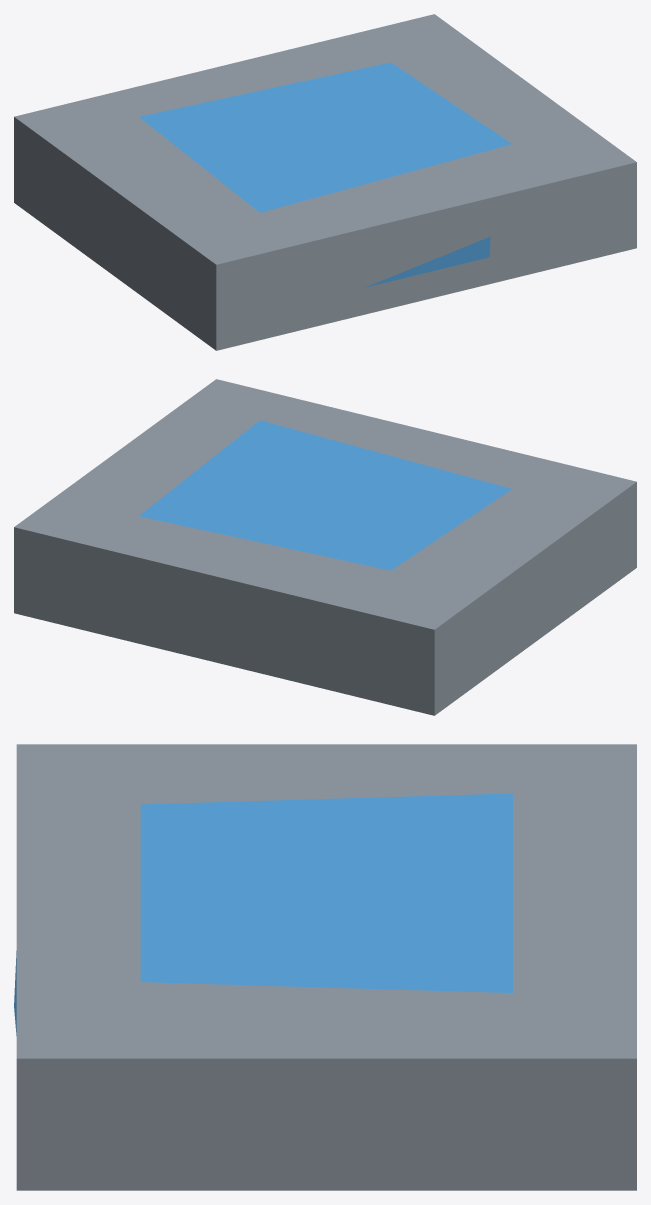
Rendered from AL_NightveilBomber_LOD1.glb.
3 views of the same model, one above another, from view 1: azimuth 30°, elevation 25°; view 2: azimuth 150°, elevation 25°; view 3: azimuth 270°, elevation 25° (orthographic). The views are drawn at different scales.
Parts seen in each view (by area): view 1: EntranceGate; view 2: EntranceGate; view 3: EntranceGate.
Part boxes in pixels (bbox=[...]): EntranceGate: bbox=[14, 14, 636, 350]; EntranceGate: bbox=[14, 379, 636, 715]; EntranceGate: bbox=[14, 744, 636, 1190].
Size of the model in its own units: 900 by 194 by 753.
